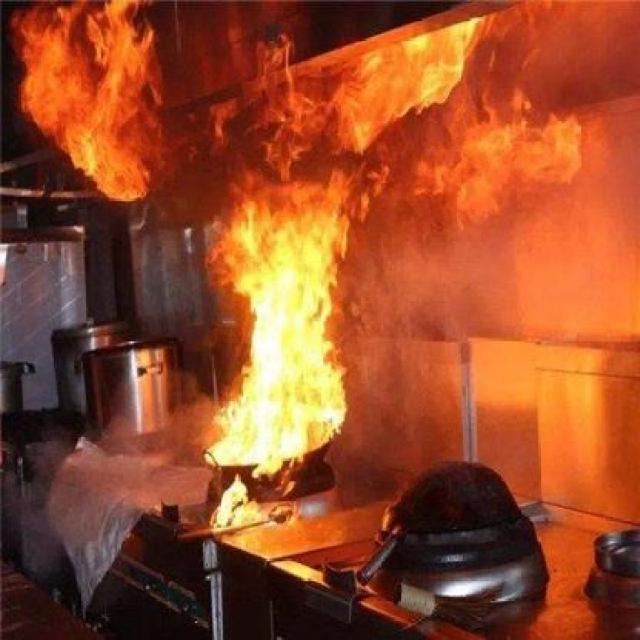Fire: (364, 18, 611, 212), (206, 172, 351, 476), (8, 2, 173, 222), (251, 37, 360, 181), (210, 485, 268, 534)
